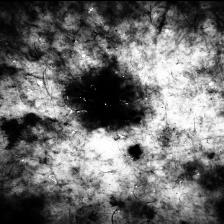Potentially Malignant Skin Tumors: (70, 73, 131, 127)
